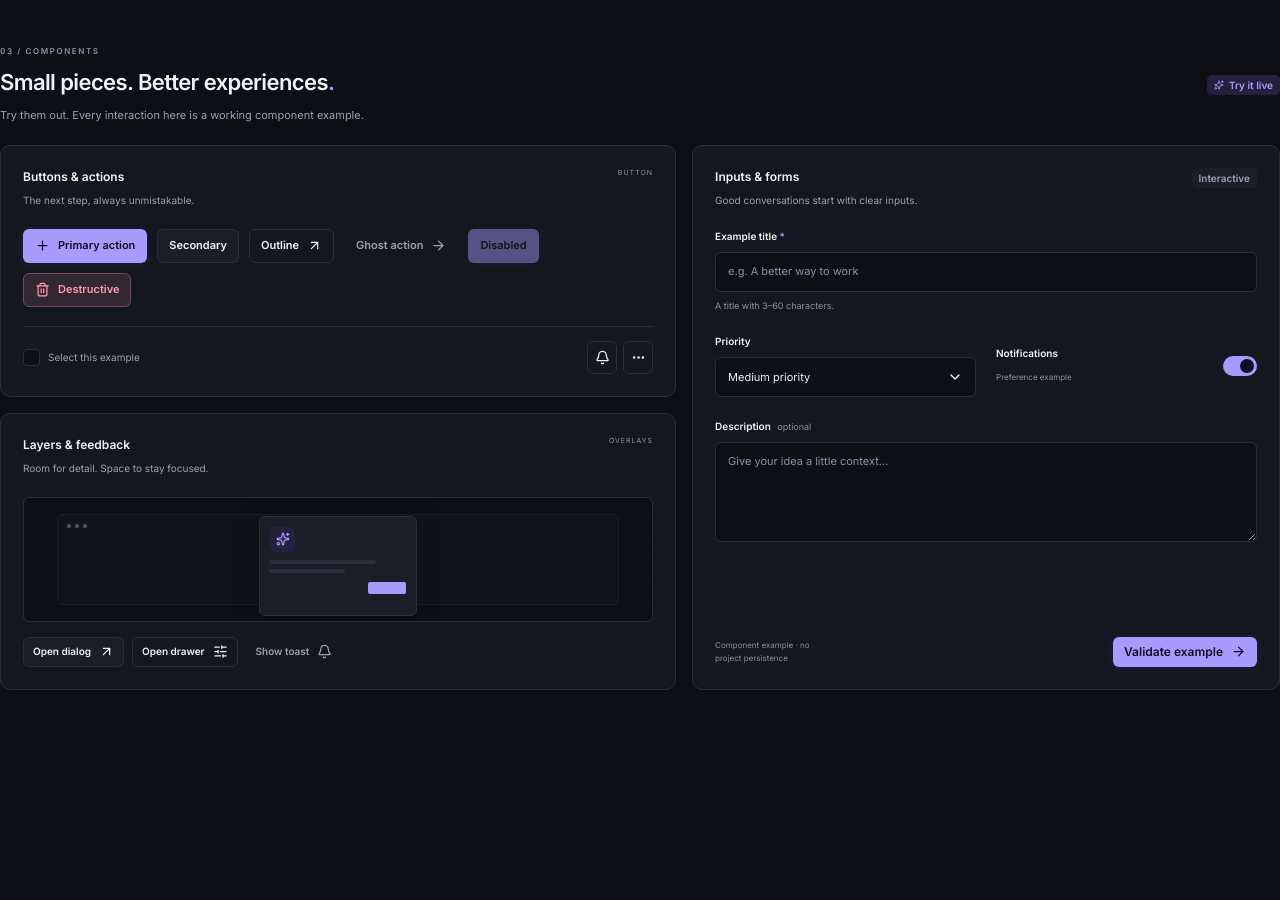
Component lab interactions › changes real theme preference in the drawer
The width and height of the screenshot is (1280, 900).
Click the button "Open drawer" at (185, 652), box [132, 637, 238, 667]
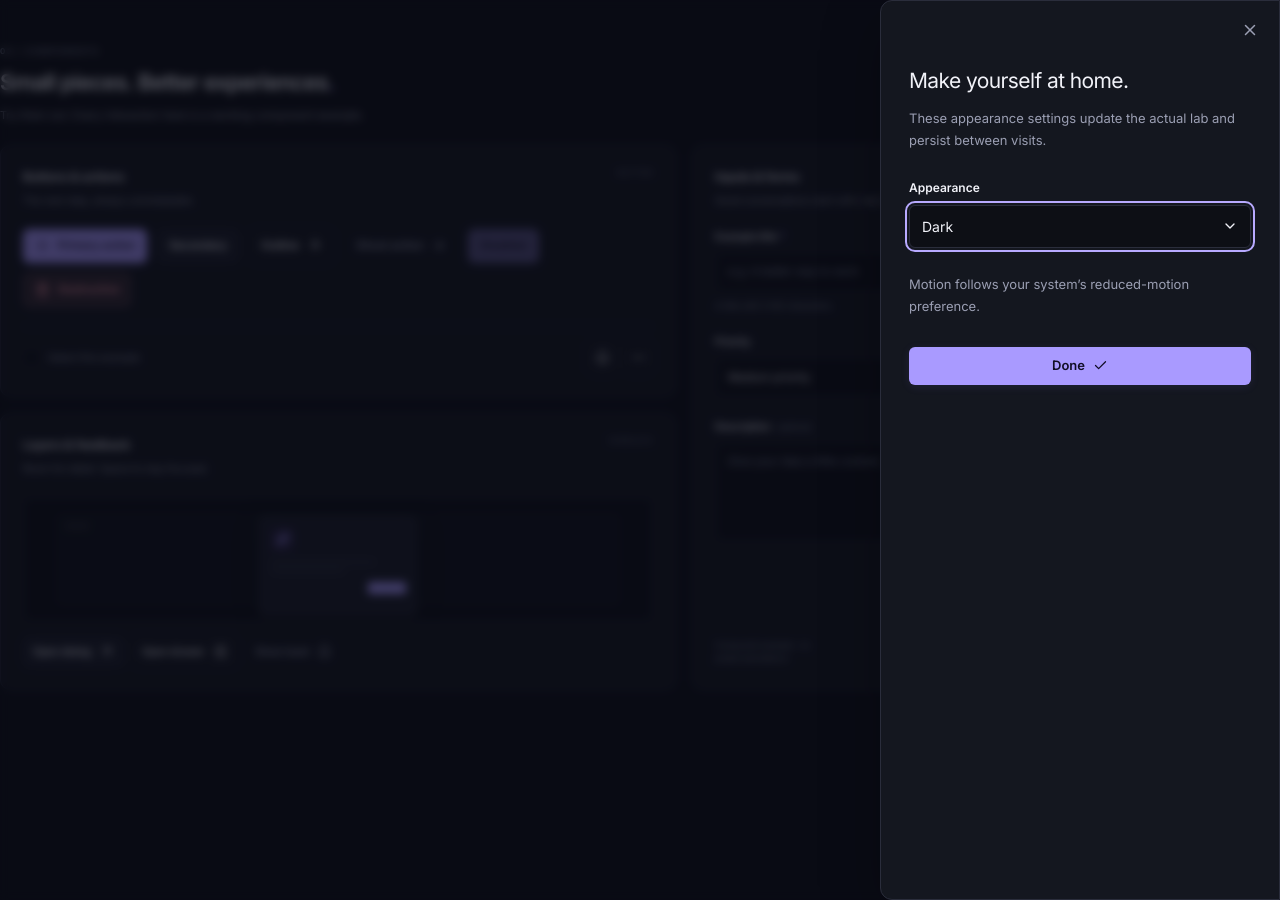
Check: the dialog "Make yourself at home." is shown, box [880, 0, 1279, 899]
Check: the dropdown named "Drawer appearance" is shown, box [909, 205, 1251, 248]
Click the button "Done" at (1080, 366), box [909, 347, 1251, 385]
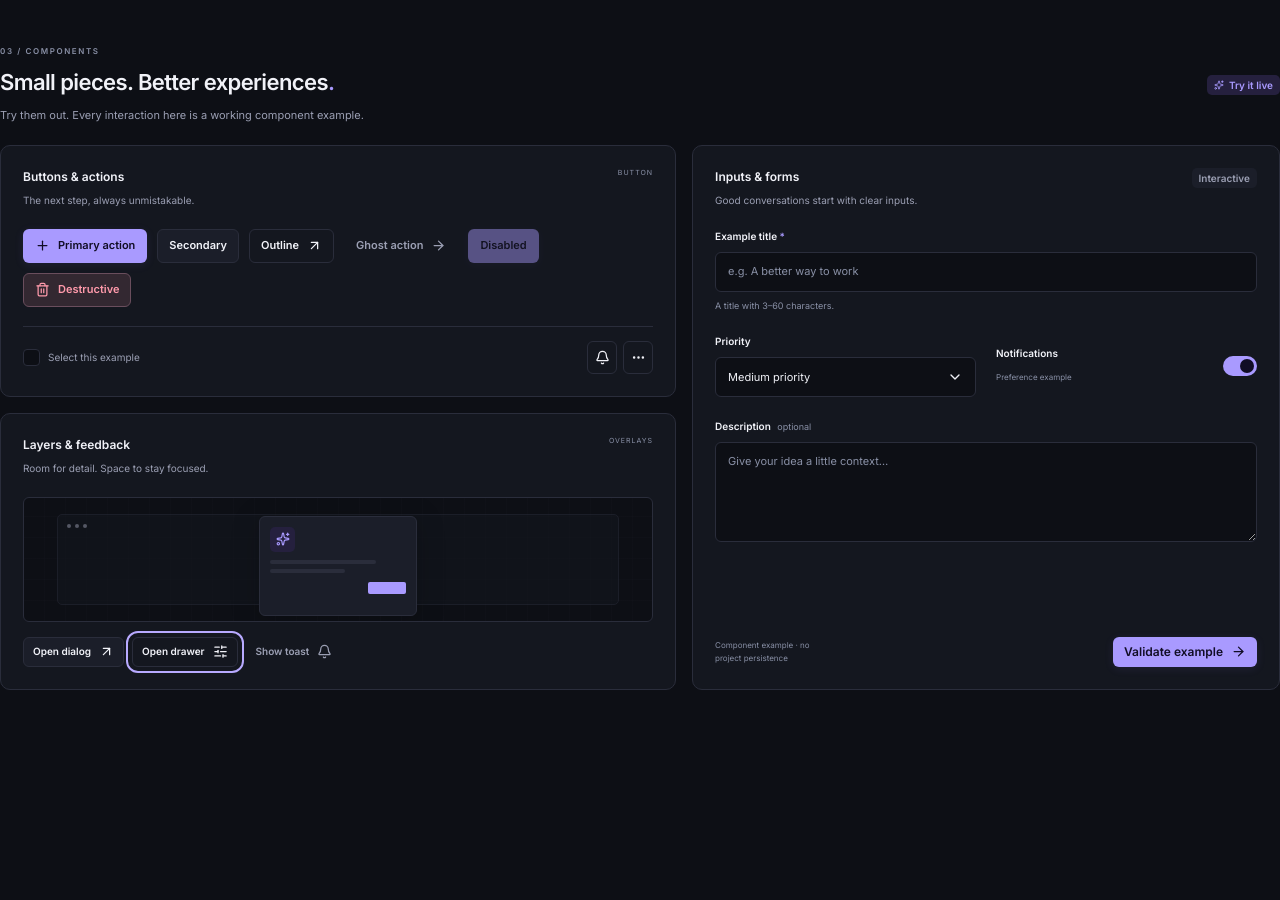
Check: the dialog is gone
